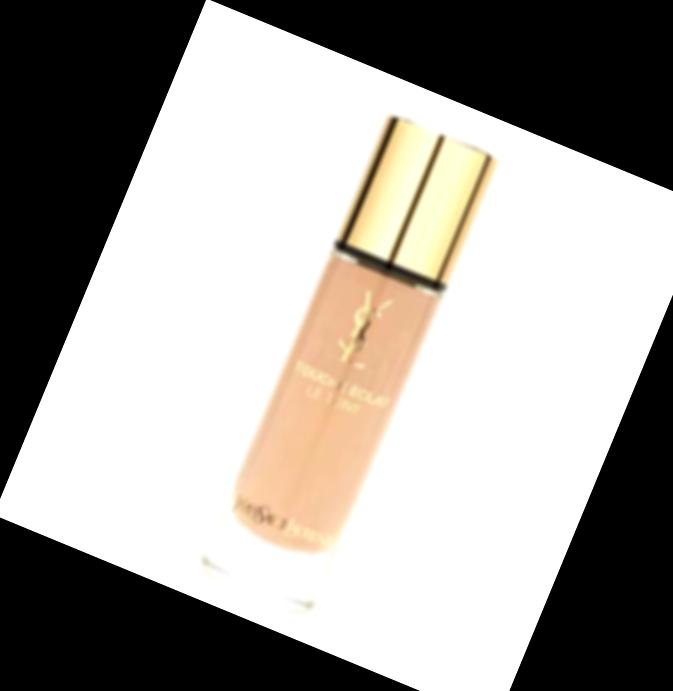cosmetic: (194, 108, 507, 622)
